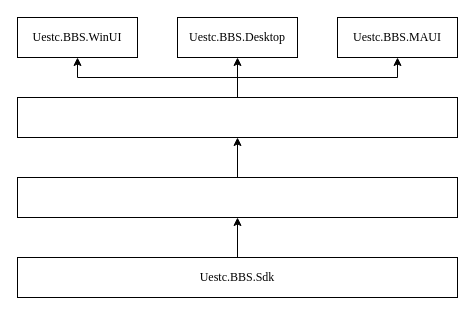
The diagram is 475 pixels wide and 315 high, and some of its shapes have lost their labels. Each missing label, with the box of its shape:
Uestc.BBS.Core: (16, 176, 458, 218)
Uestc.BBS.Mvvm: (16, 96, 458, 138)
